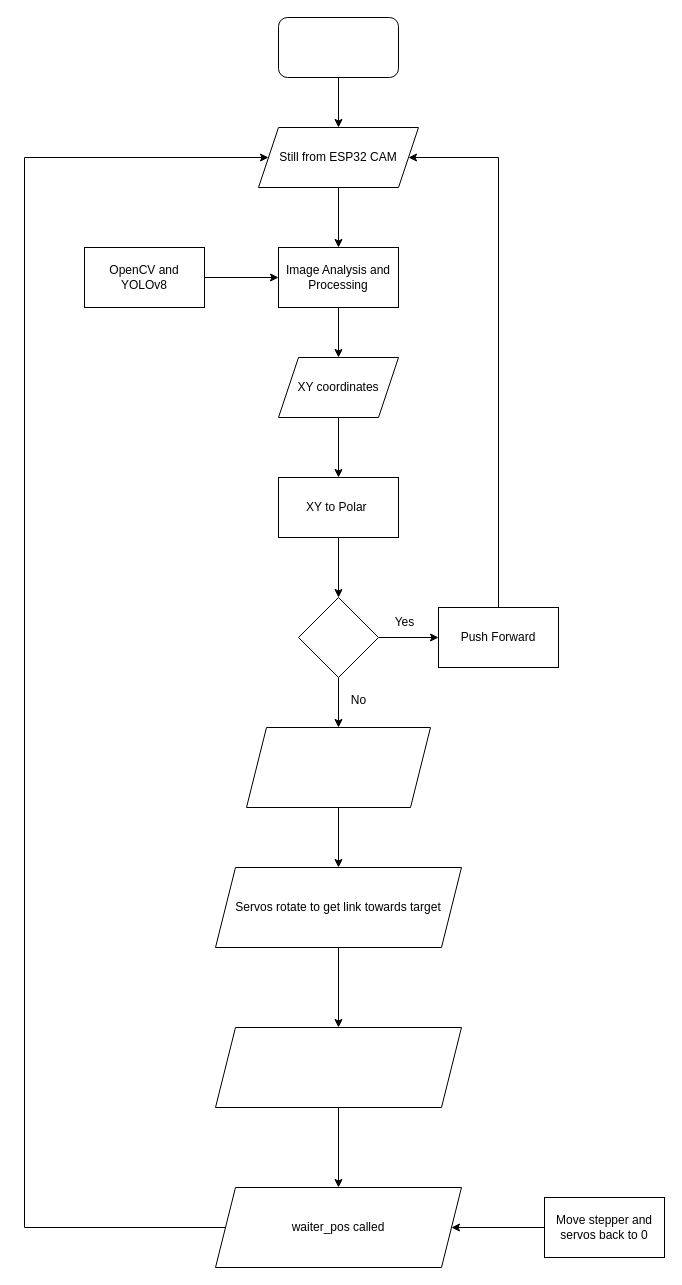
The diagram is 682 pixels wide and 1285 high, and some of its shapes have lost their labels. Here are the shapes that lost their labels. From the top down, the box of each, then its label:
(278, 16, 398, 78): Program start
(298, 596, 378, 678): Is R < 17?
(246, 726, 430, 808): Stepper rotates as per angle
(214, 1026, 462, 1108): Gripper engages and arm moves to new location
